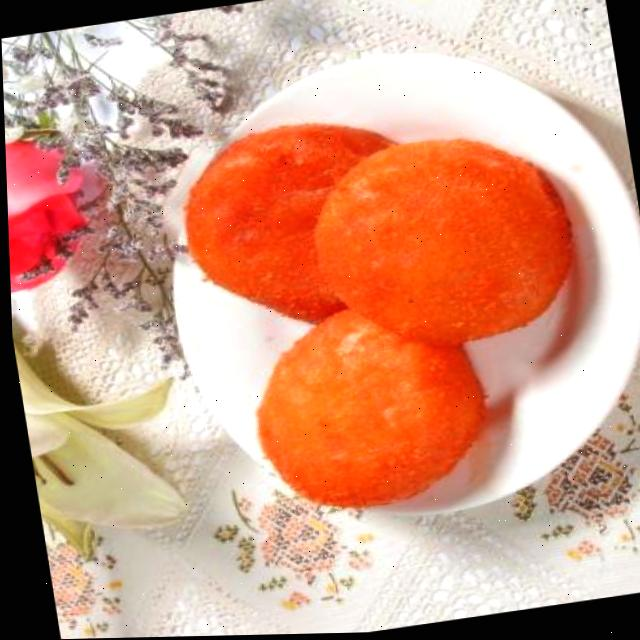炸货点心: (141, 43, 640, 554)
蛋糕甜品: (141, 43, 640, 554)
